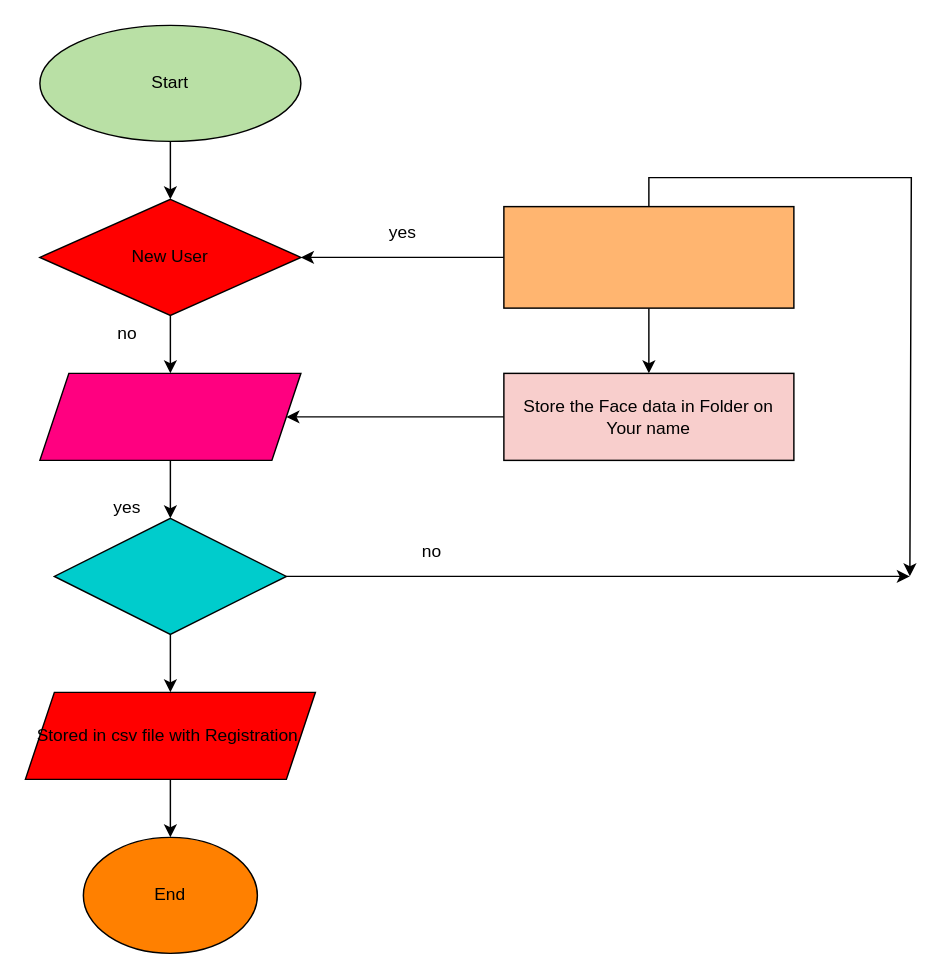
This 948x979 diagram has some shape labels left out. Here are the shapes that lost their labels. From the top down, the centre of each, then its label:
point (648, 256): Give Your Photograph
point (169, 416): Recognize the face
point (169, 575): Face Recognised
